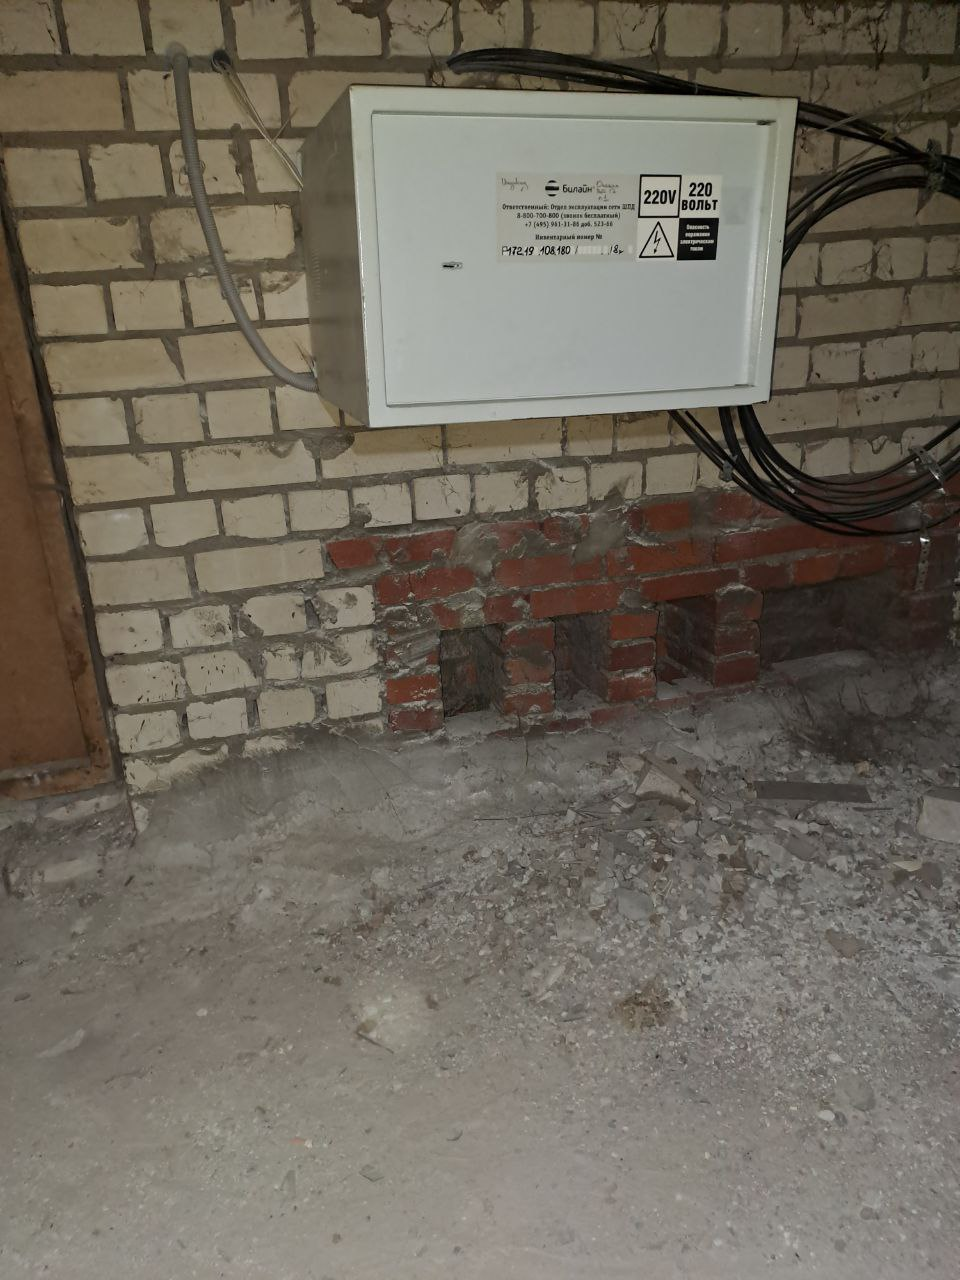shta-7m: (291, 79, 803, 435)
